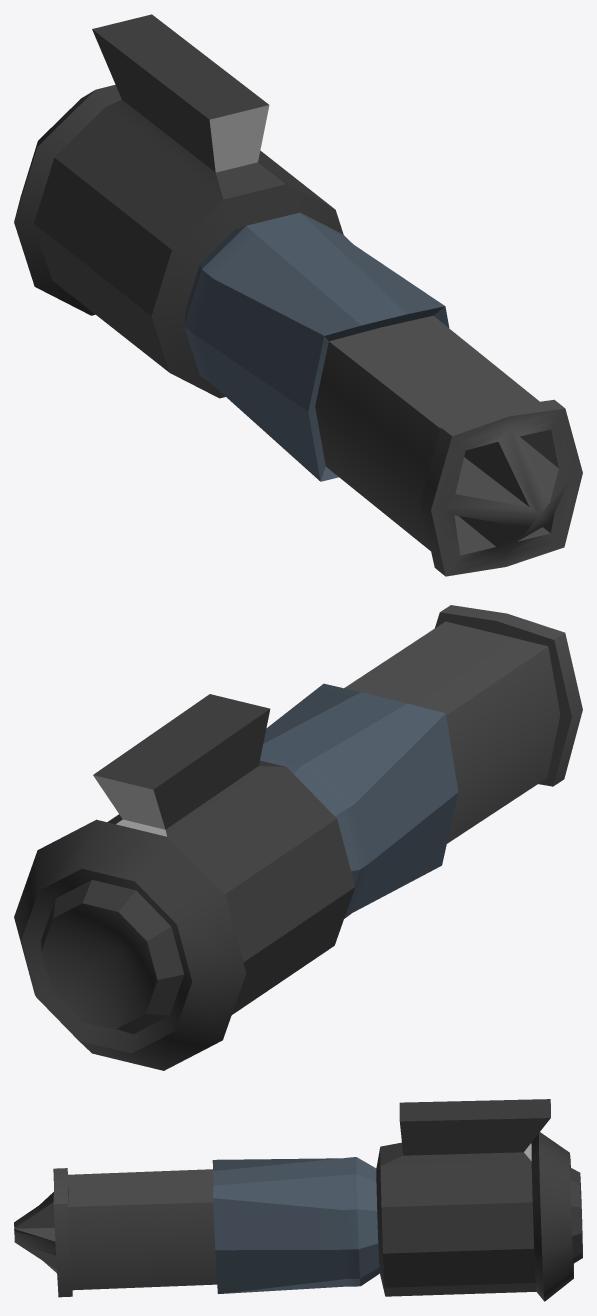
The model's file is missilelauncher.fbx.
3 views of the same model, one above another, from view 1: azimuth 30°, elevation 25°; view 2: azimuth 150°, elevation 25°; view 3: azimuth 270°, elevation 25° (orthographic). The views are drawn at different scales.
Parts seen in each view (by area): view 1: shipmissilelauncher3:pCylinder1; view 2: shipmissilelauncher3:pCylinder1; view 3: shipmissilelauncher3:pCylinder1.
Boxes of the visible parts, left/top/right/bottom form: shipmissilelauncher3:pCylinder1: left=14, top=14, right=582, bottom=576; shipmissilelauncher3:pCylinder1: left=14, top=605, right=582, bottom=1070; shipmissilelauncher3:pCylinder1: left=14, top=1099, right=582, bottom=1301.
Size of the model in its own units: 2.28 by 2.66 by 7.52.
